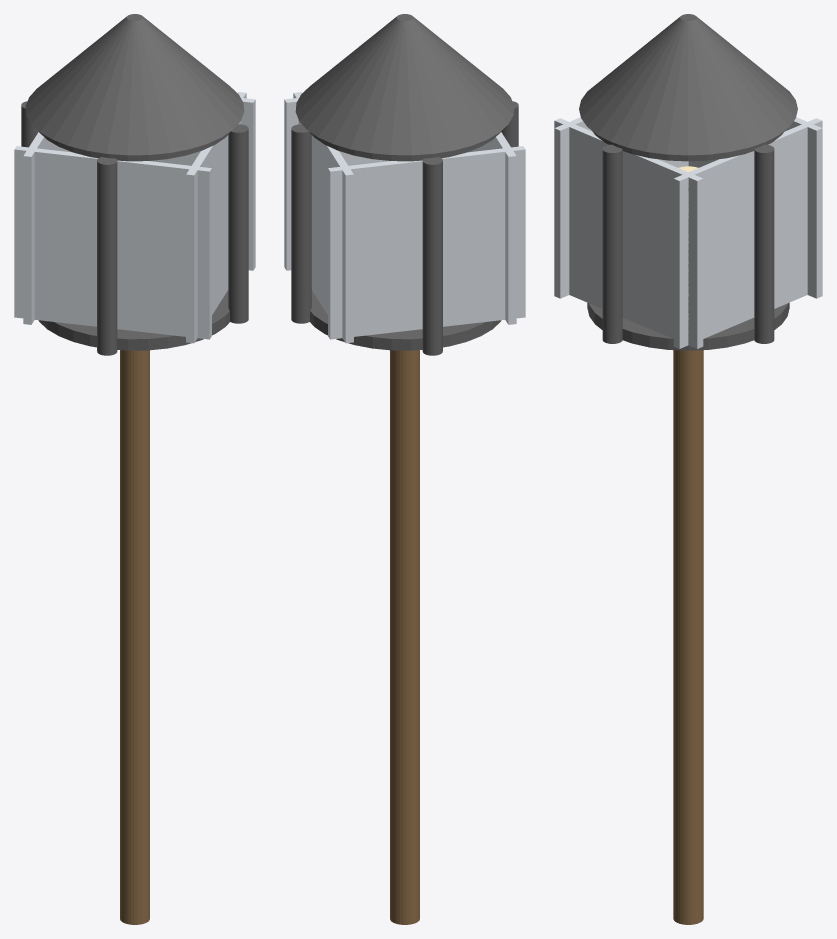
The model's file is lamp6.glb.
The picture shows the model from 3 angles, left to right: view 1: azimuth 30°, elevation 25°; view 2: azimuth 150°, elevation 25°; view 3: azimuth 270°, elevation 25°; orthographic projection.
Parts seen in each view (by area): view 1: L6_Glass2, L6_TopPyramid, L6_Pole, L6_Glass3, L6_Post-1-1, L6_Post1-1, L6_BotPlate, L6_Glass1, L6_Glass0, L6_TopCap; view 2: L6_Glass1, L6_TopPyramid, L6_Pole, L6_Glass0, L6_Post-11, L6_Post11, L6_BotPlate, L6_Glass2, L6_Glass3, L6_TopCap; view 3: L6_TopPyramid, L6_Pole, L6_Glass0, L6_Glass3, L6_Post11, L6_Post1-1, L6_Glass2, L6_Glass1, L6_BotPlate, L6_TopCap.
Boxes of the visible parts, x1,y1,x2,y2 form: L6_Glass2: [14, 146, 211, 339]; L6_TopPyramid: [25, 14, 244, 155]; L6_Pole: [120, 350, 149, 924]; L6_Glass3: [186, 92, 246, 343]; L6_Post-1-1: [97, 157, 117, 355]; L6_Post1-1: [228, 124, 248, 323]; L6_BotPlate: [38, 290, 229, 350]; L6_Glass1: [23, 132, 71, 324]; L6_Glass0: [150, 97, 255, 270]; L6_TopCap: [38, 131, 229, 161]; L6_Glass1: [328, 146, 525, 339]; L6_TopPyramid: [295, 14, 514, 155]; L6_Pole: [390, 350, 419, 924]; L6_Glass0: [293, 92, 353, 343]; L6_Post-11: [422, 157, 442, 355]; L6_Post11: [291, 124, 311, 323]; L6_BotPlate: [310, 290, 501, 350]; L6_Glass2: [468, 132, 516, 324]; L6_Glass3: [284, 98, 389, 270]; L6_TopCap: [310, 131, 501, 161]; L6_TopPyramid: [579, 14, 797, 155]; L6_Pole: [673, 350, 703, 924]; L6_Glass0: [673, 118, 822, 348]; L6_Glass3: [554, 118, 703, 348]; L6_Post11: [754, 144, 774, 343]; L6_Post1-1: [602, 144, 622, 343]; L6_Glass2: [554, 117, 688, 298]; L6_Glass1: [688, 117, 822, 298]; L6_BotPlate: [587, 302, 789, 350]; L6_TopCap: [592, 131, 784, 161].
Bounding box in the file's own units: 0.3182 × 1.18 × 0.3182.
